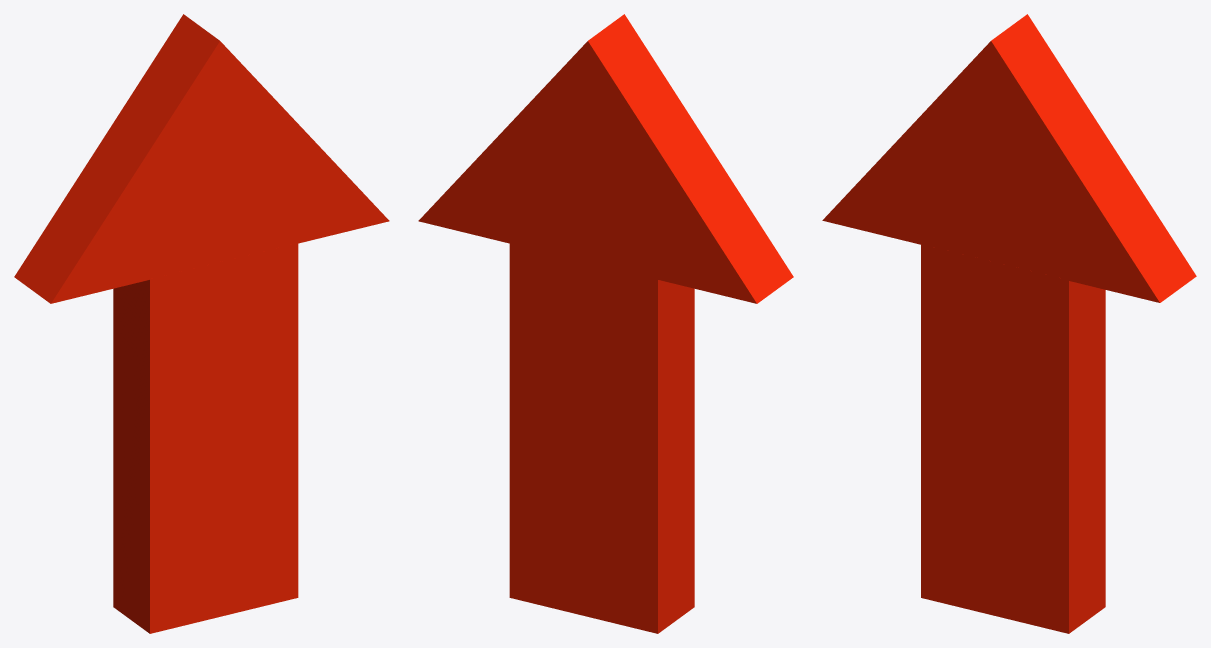
Rendered from arrow_up.dae.
3 views of the same model, side by side, from view 1: azimuth 30°, elevation 25°; view 2: azimuth 150°, elevation 25°; view 3: azimuth 330°, elevation 25° (orthographic).
Parts seen in each view (by area): view 1: Box, Box1; view 2: Box, Box1; view 3: Box, Box1.
Boxes of the visible parts, x1=… form: Box: x1=113, y1=243, x2=298, y2=633; Box1: x1=14, y1=14, x2=389, y2=303; Box: x1=509, y1=243, x2=694, y2=633; Box1: x1=418, y1=14, x2=793, y2=303; Box: x1=921, y1=244, x2=1105, y2=633; Box1: x1=822, y1=14, x2=1196, y2=302.
Bounding box in the file's own units: 0.7999 × 1.3 × 0.1501.
